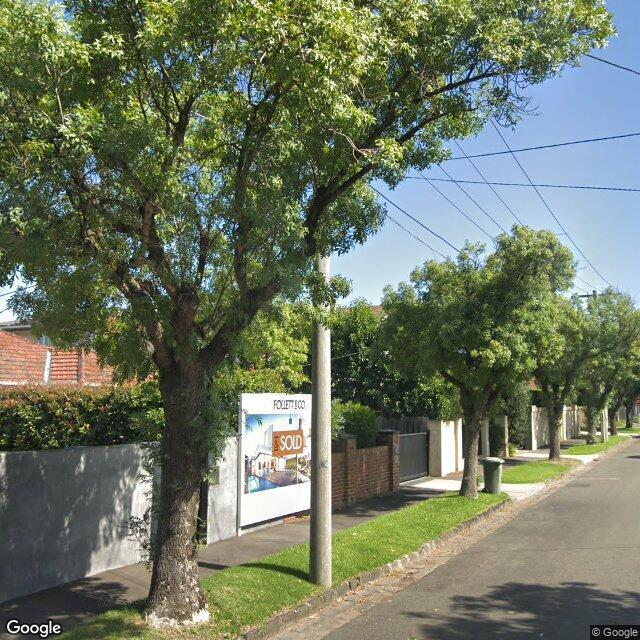crossarm: (571, 293, 621, 299)
timber-pole: (309, 253, 333, 587), (593, 290, 608, 443)
